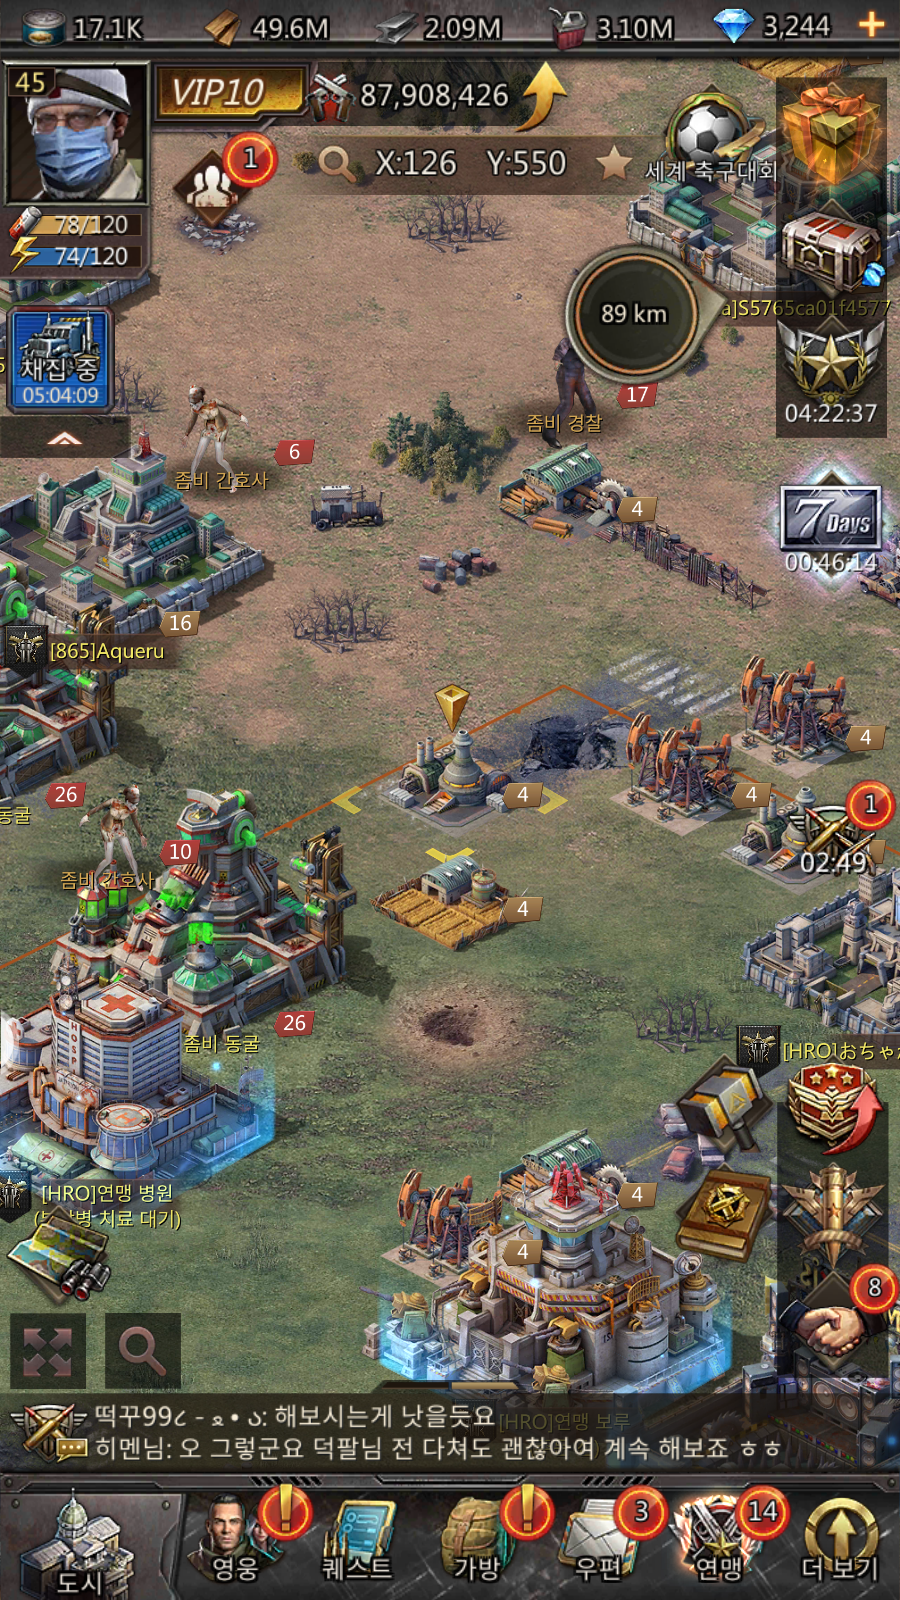city: (13, 1491, 183, 1600)
empty_steel: (316, 671, 604, 891)
open_panel: (102, 1305, 189, 1395)
troops_cnt_1: (165, 124, 285, 245)
